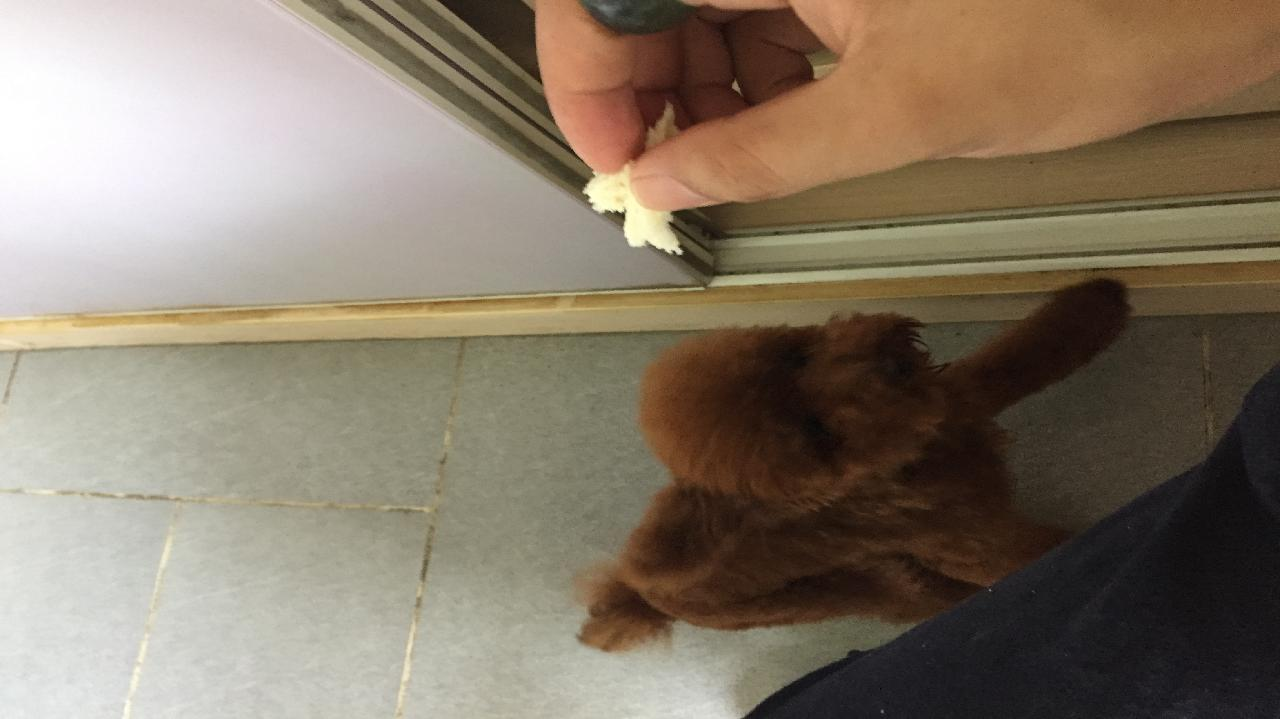coin: (609, 295, 1085, 631)
